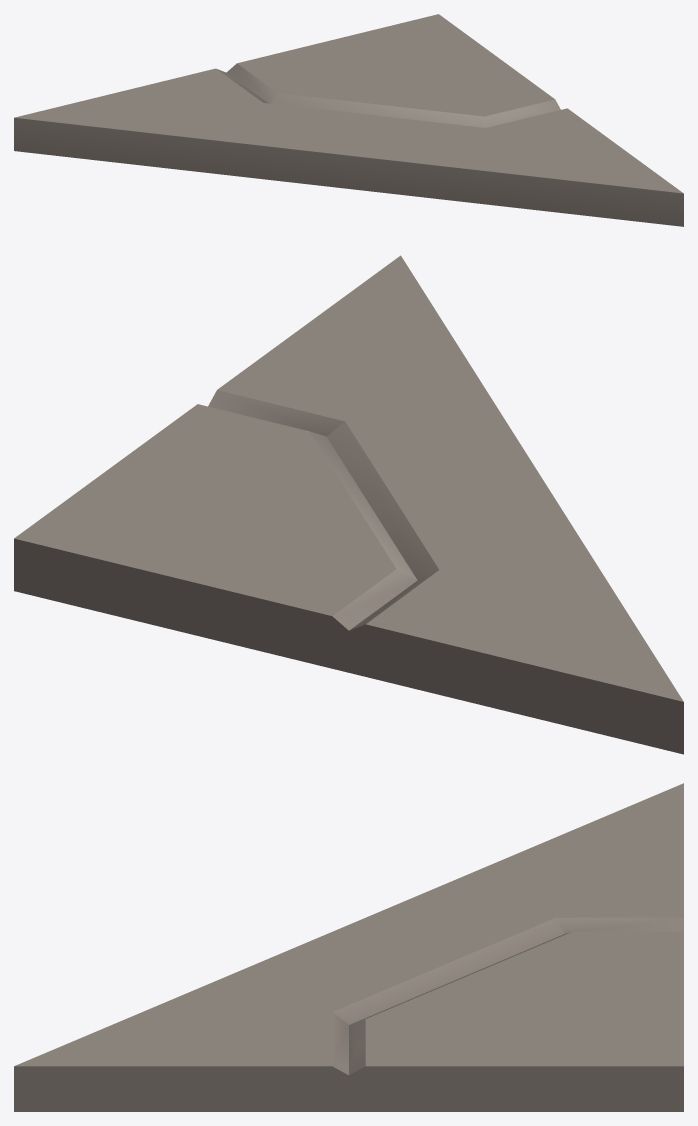
The model's file is floor_tile_small_corner.glb.
The picture shows the model from 3 angles, top to bottom: view 1: azimuth 30°, elevation 25°; view 2: azimuth 150°, elevation 25°; view 3: azimuth 270°, elevation 25°; orthographic projection. The views are drawn at different scales.
Visible parts, largest first — view 1: floor_tile_small_corner; view 2: floor_tile_small_corner; view 3: floor_tile_small_corner.
Boxes of the visible parts, x1,y1,x2,y2 form: floor_tile_small_corner: (14, 14, 683, 226); floor_tile_small_corner: (14, 255, 683, 754); floor_tile_small_corner: (14, 783, 683, 1111).
Size of the model in its own units: 1 by 0.075 by 1.
Materials: 1 (1 with a texture image).
